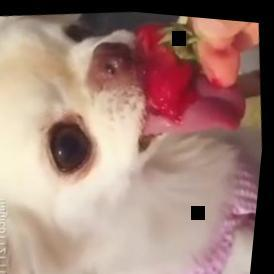nasal_discharge: (92, 47, 131, 82)
